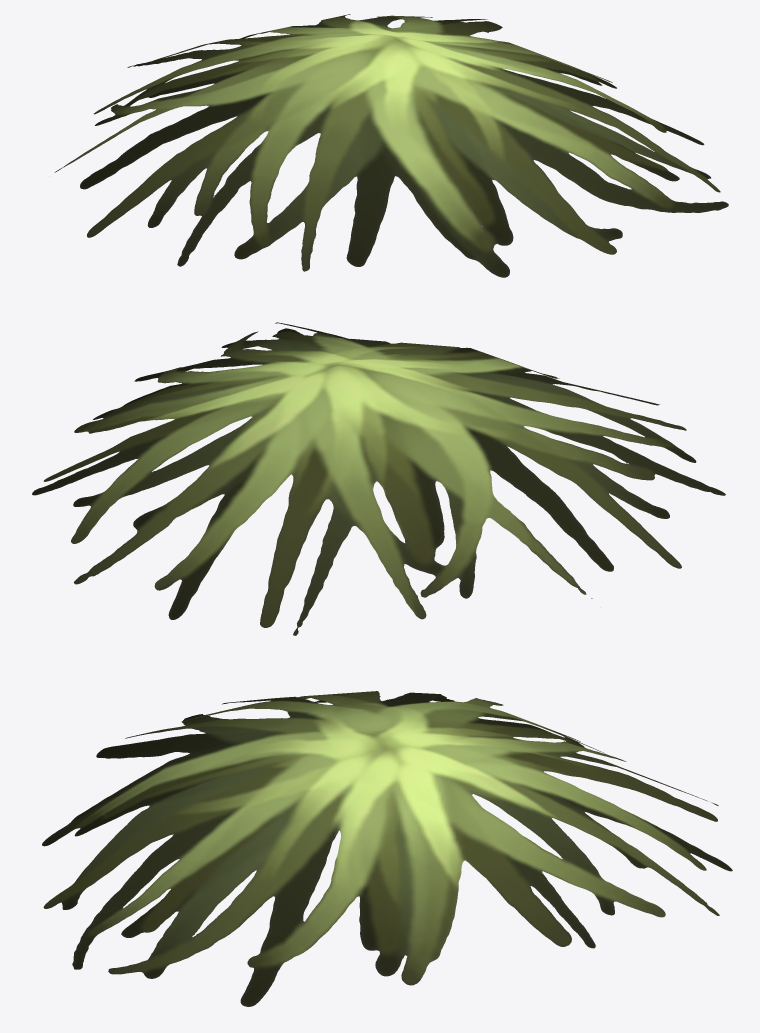
The model's file is HP3_grass002 1.fbx.
3 views of the same model, one above another, from view 1: azimuth 30°, elevation 25°; view 2: azimuth 150°, elevation 25°; view 3: azimuth 270°, elevation 25° (orthographic). The views are drawn at different scales.
Visible parts, largest first — view 1: HP3_grass002; view 2: HP3_grass002; view 3: HP3_grass002.
Part boxes in pixels (x1,y1,x2,y2): HP3_grass002: (54, 14, 728, 277); HP3_grass002: (32, 322, 725, 635); HP3_grass002: (42, 691, 732, 1006).
Size of the model in its own units: 7.56 by 1.57 by 7.48.
